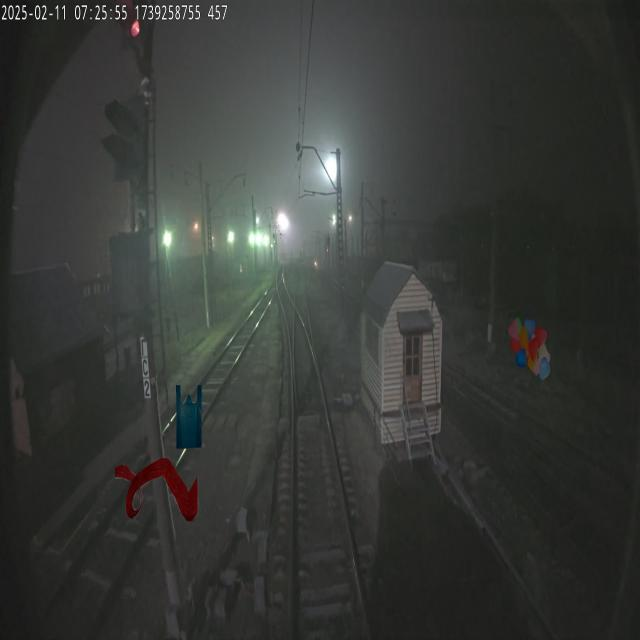balloon: (508, 316, 551, 381)
floating object: (115, 458, 199, 522)
plastic bag: (176, 384, 202, 448)
